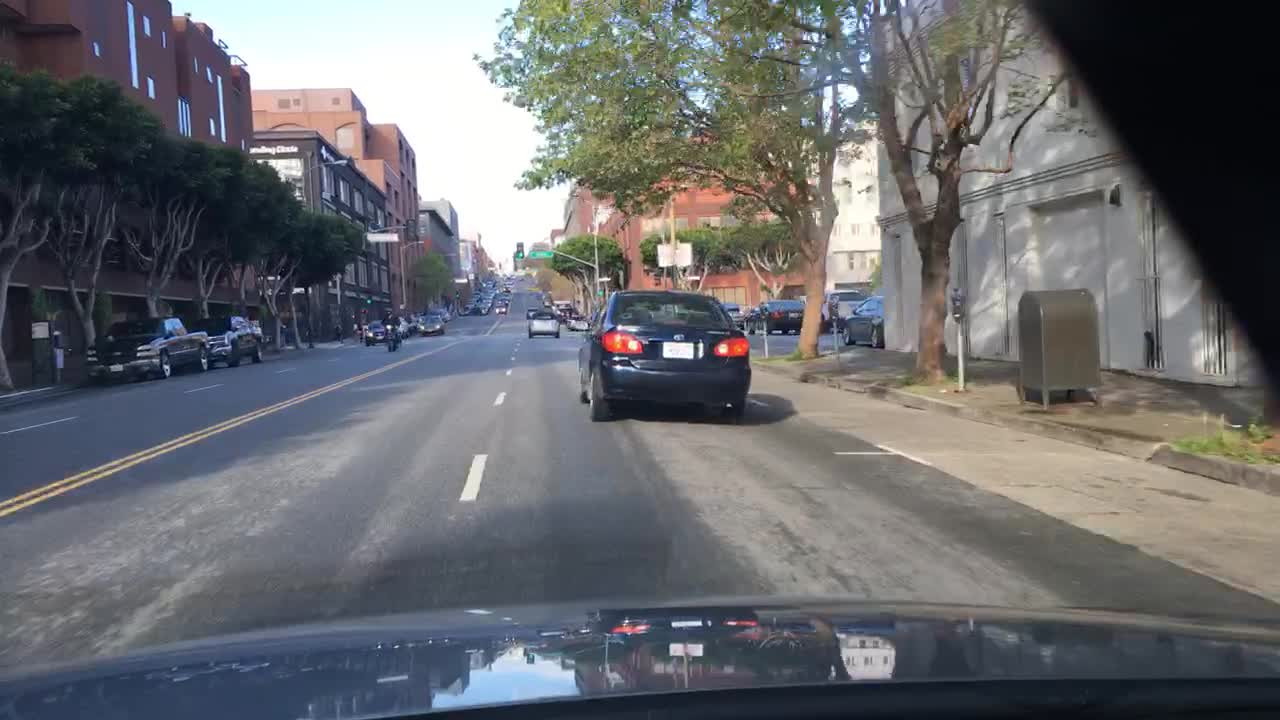car: (577, 290, 751, 425), (186, 313, 266, 371), (841, 295, 885, 351), (746, 299, 805, 332), (824, 287, 859, 329), (523, 307, 559, 339), (364, 322, 403, 342), (415, 311, 442, 338), (397, 310, 421, 336), (719, 302, 745, 326), (390, 314, 409, 336), (568, 317, 589, 332), (556, 308, 576, 323), (492, 301, 507, 317), (457, 305, 472, 317), (438, 310, 454, 321), (553, 305, 571, 314), (499, 284, 513, 294), (483, 280, 496, 290), (476, 306, 488, 316), (525, 307, 535, 318), (479, 297, 491, 303)
motor: (379, 323, 395, 350)
rider: (379, 308, 400, 344)
traffic light: (514, 239, 525, 259), (364, 293, 375, 305)
traffic sign: (655, 239, 691, 269), (531, 248, 553, 257), (600, 277, 613, 284), (685, 275, 700, 281)
truck: (83, 316, 210, 383)
